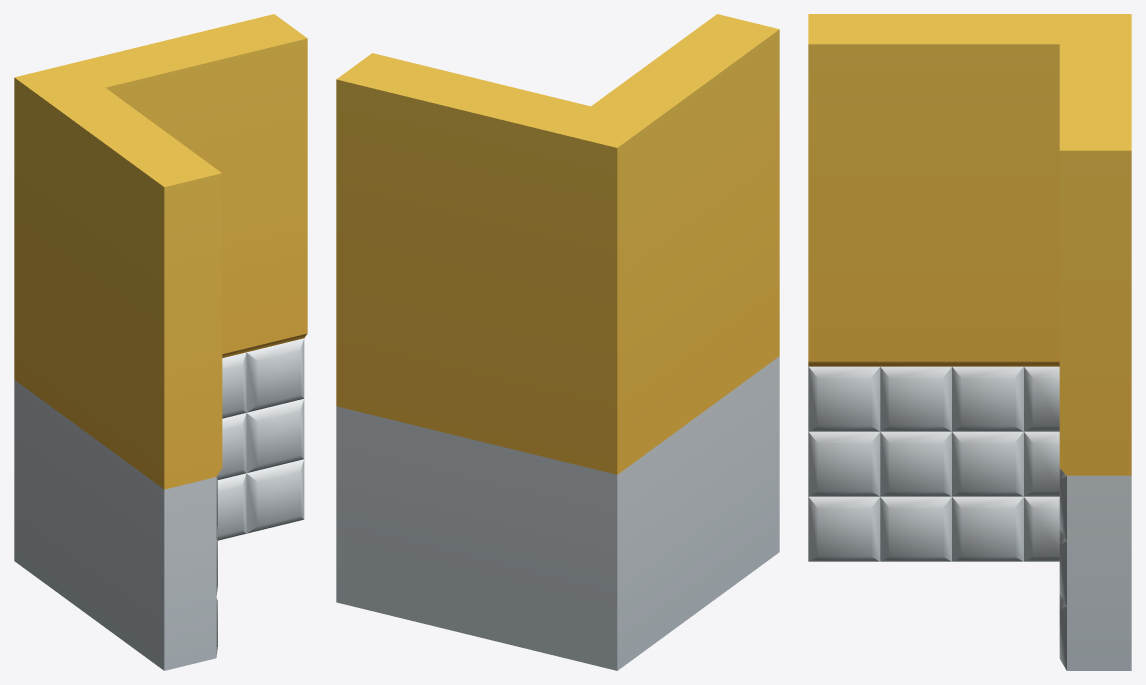
Rendered from wall_tiled_corner_inner.fbx.
3 views of the same model, side by side, from view 1: azimuth 30°, elevation 25°; view 2: azimuth 150°, elevation 25°; view 3: azimuth 270°, elevation 25° (orthographic). The views are drawn at different scales.
Parts seen in each view (by area): view 1: wall_tiled_corner_inner; view 2: wall_tiled_corner_inner; view 3: wall_tiled_corner_inner.
Boxes of the visible parts, x1,y1,x2,y2 form: wall_tiled_corner_inner: (14, 14, 307, 670); wall_tiled_corner_inner: (336, 14, 779, 670); wall_tiled_corner_inner: (808, 14, 1131, 670).
Bounding box in the file's own units: 2.25 × 4 × 2.25.
